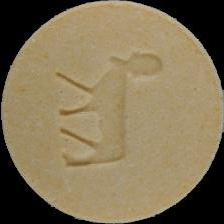55154-4575: (0, 0, 224, 224)
